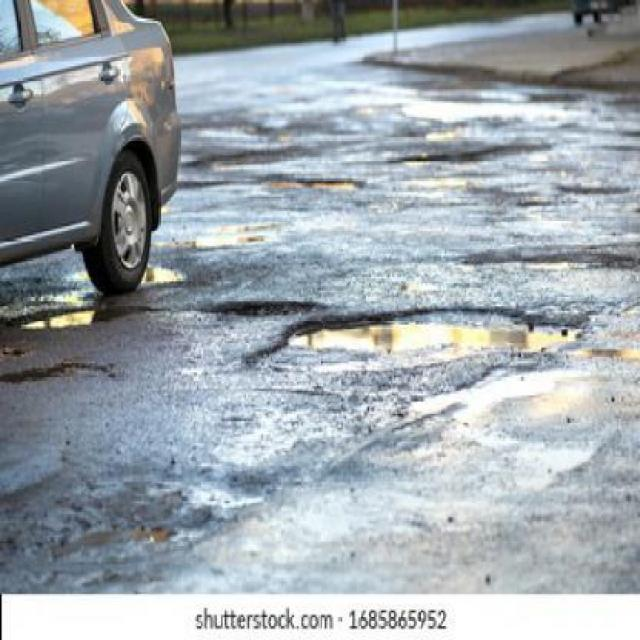Pothole: (286, 304, 586, 359), (266, 173, 360, 195), (0, 365, 108, 383)
